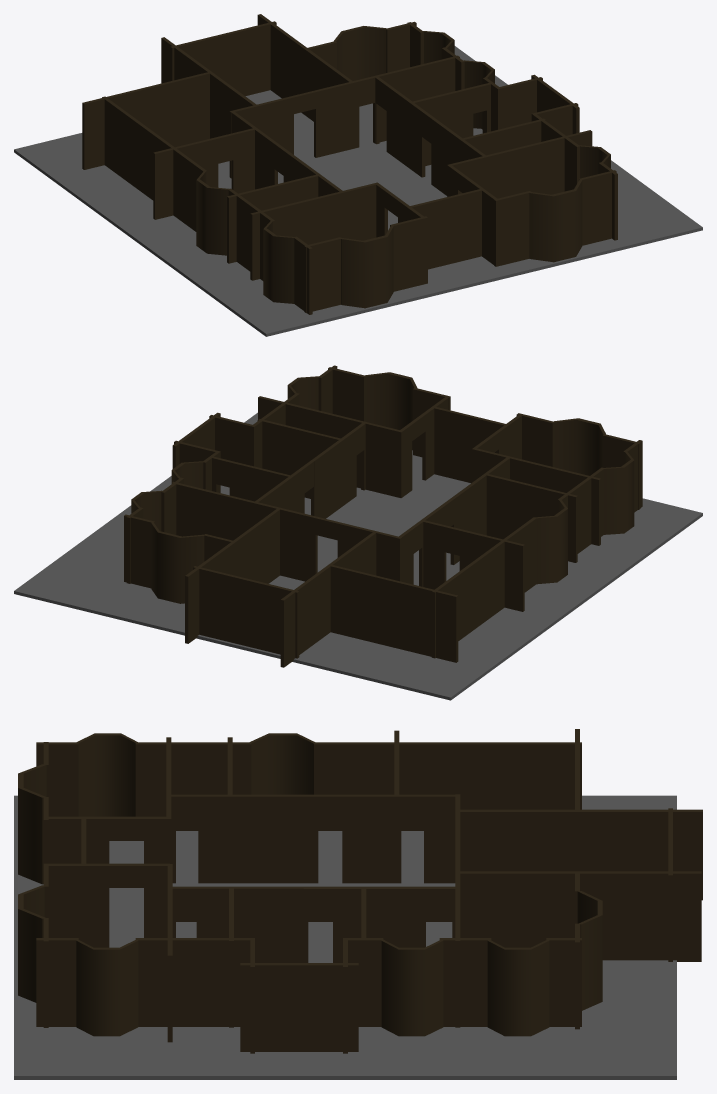
Rendered from house.fbx.
The picture shows the model from 3 angles, top to bottom: view 1: azimuth 30°, elevation 25°; view 2: azimuth 150°, elevation 25°; view 3: azimuth 270°, elevation 25°; orthographic projection. The views are drawn at different scales.
Visible parts, largest first — view 1: pCube56; view 2: pCube56; view 3: pCube56.
Boxes of the visible parts, box(x1,y1,x2,y2) form: pCube56: box(14, 14, 702, 336); pCube56: box(14, 365, 702, 700); pCube56: box(14, 729, 702, 1079).
Size of the model in its own units: 3515 by 530 by 3652.
